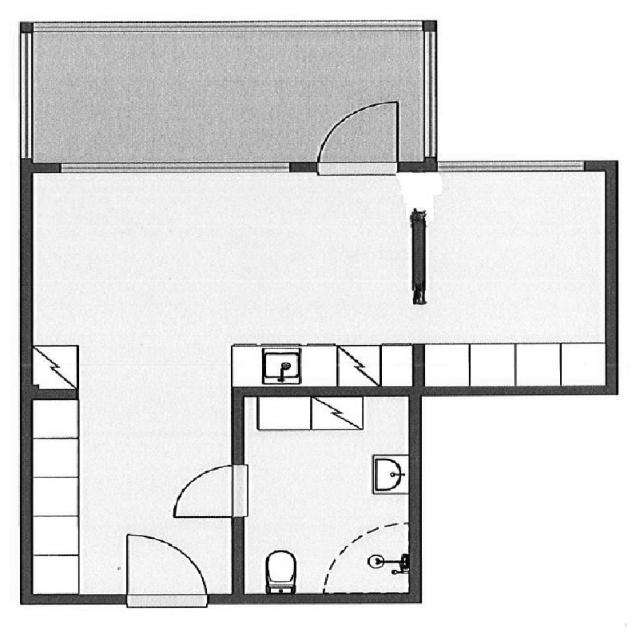door: (105, 524, 214, 605), (317, 95, 402, 179), (164, 464, 253, 530)
window: (21, 18, 430, 40), (409, 28, 452, 156), (59, 161, 298, 179), (14, 34, 46, 156), (422, 157, 590, 177)
zone: (14, 178, 420, 383), (24, 391, 246, 603), (412, 172, 606, 386), (239, 388, 412, 594)
